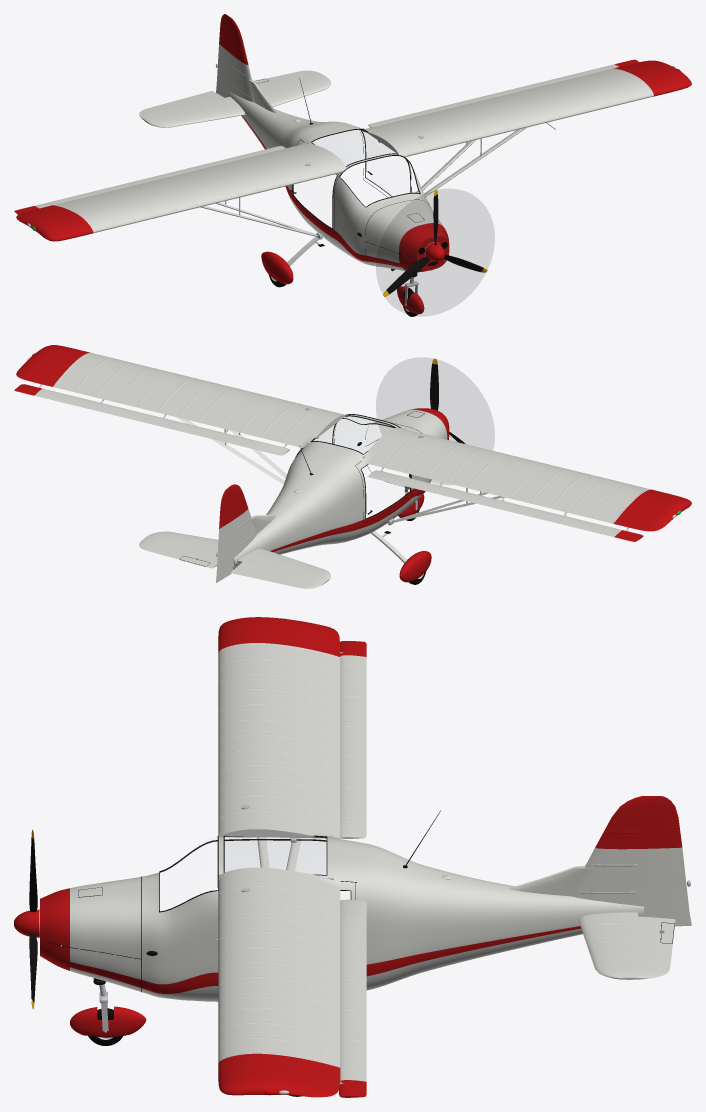
3 renders of one model, top to bottom at view 1: azimuth 30°, elevation 25°; view 2: azimuth 150°, elevation 25°; view 3: azimuth 270°, elevation 25°, orthographic. The views are drawn at different scales.
Visible parts, largest first — view 1: Wing_R, Wing_L, Fuselage, PROPELLER_Blur, Stabilizer, Fin, SKEL_Elevator, Fuselage_Details, SKEL_Aileron_R, SKEL_Aileron_L, PROPELLER, SKEL_Rudder (+3 smaller); view 2: Wing_R, Wing_L, Fuselage, PROPELLER_Blur, SKEL_Aileron_R, SKEL_Aileron_L, Stabilizer, SKEL_Elevator, Fin, SKEL_Rudder, Fuselage_Details, Wheelpant_R (+3 smaller); view 3: Fuselage, Wing_L, Wing_R, Fin, SKEL_Aileron_L, SKEL_Aileron_R, SKEL_Rudder, Stabilizer, SKEL_Elevator, Wheelpant_Nose, Fuselage_Details, PROPELLER (+1 smaller).
Part boxes in pixels (x1,y1,x2,y2): Wing_R: [16, 140, 346, 241]; Wing_L: [360, 60, 691, 156]; Fuselage: [228, 92, 449, 272]; PROPELLER_Blur: [376, 189, 494, 315]; Stabilizer: [143, 75, 330, 127]; Fin: [229, 18, 276, 113]; SKEL_Elevator: [139, 70, 323, 119]; Fuselage_Details: [290, 78, 432, 271]; SKEL_Aileron_R: [14, 146, 285, 214]; SKEL_Aileron_L: [368, 59, 639, 127]; PROPELLER: [383, 190, 487, 296]; SKEL_Rudder: [215, 14, 231, 97]; Wing_R: [359, 427, 691, 531]; Wing_L: [16, 345, 346, 447]; Fuselage: [233, 408, 449, 567]; PROPELLER_Blur: [376, 358, 494, 484]; SKEL_Aileron_R: [368, 470, 643, 541]; SKEL_Aileron_L: [14, 384, 289, 455]; Stabilizer: [144, 531, 330, 583]; SKEL_Elevator: [139, 539, 323, 588]; Fin: [232, 484, 276, 558]; SKEL_Rudder: [215, 485, 235, 582]; Fuselage_Details: [294, 411, 448, 528]; Wheelpant_R: [399, 551, 431, 582]; Fuselage: [40, 836, 643, 1001]; Wing_L: [216, 867, 341, 1097]; Wing_R: [218, 617, 341, 842]; Fin: [509, 796, 643, 906]; SKEL_Aileron_L: [339, 899, 366, 1097]; SKEL_Aileron_R: [340, 641, 366, 838]; SKEL_Rudder: [644, 796, 691, 926]; Stabilizer: [578, 912, 637, 979]; SKEL_Elevator: [638, 916, 675, 979]; Wheelpant_Nose: [70, 1006, 146, 1037]; Fuselage_Details: [46, 810, 465, 992]; PROPELLER: [29, 829, 37, 1009].
Bounding box in the file's own units: 9.38 × 2.29 × 5.67.
